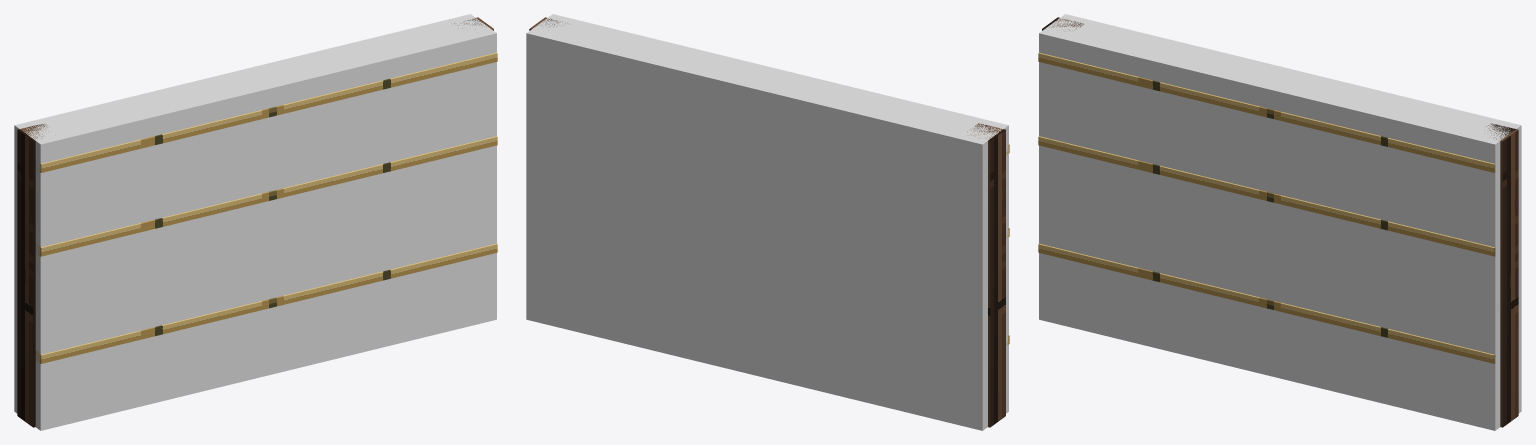
File: JP_Prop_FenceBamboo_2m_A.glb
3 views of the same model, side by side, from view 1: azimuth 30°, elevation 25°; view 2: azimuth 150°, elevation 25°; view 3: azimuth 330°, elevation 25° (orthographic).
Parts seen in each view (by area): view 1: COL_JP_Prop_FenceBamboo_2m_A, JP_Prop_FenceBamboo_2m_A; view 2: COL_JP_Prop_FenceBamboo_2m_A, JP_Prop_FenceBamboo_2m_A; view 3: COL_JP_Prop_FenceBamboo_2m_A, JP_Prop_FenceBamboo_2m_A.
Part boxes in pixels (x1,y1,x2,y2): COL_JP_Prop_FenceBamboo_2m_A: [14, 14, 496, 430]; JP_Prop_FenceBamboo_2m_A: [17, 17, 497, 427]; COL_JP_Prop_FenceBamboo_2m_A: [526, 14, 1008, 430]; JP_Prop_FenceBamboo_2m_A: [529, 17, 1009, 427]; COL_JP_Prop_FenceBamboo_2m_A: [1039, 14, 1521, 430]; JP_Prop_FenceBamboo_2m_A: [1038, 17, 1518, 427].
Bounding box in the file's own units: 2.02 × 1.2 × 0.2043.
Materials: 2 (2 with a texture image).
